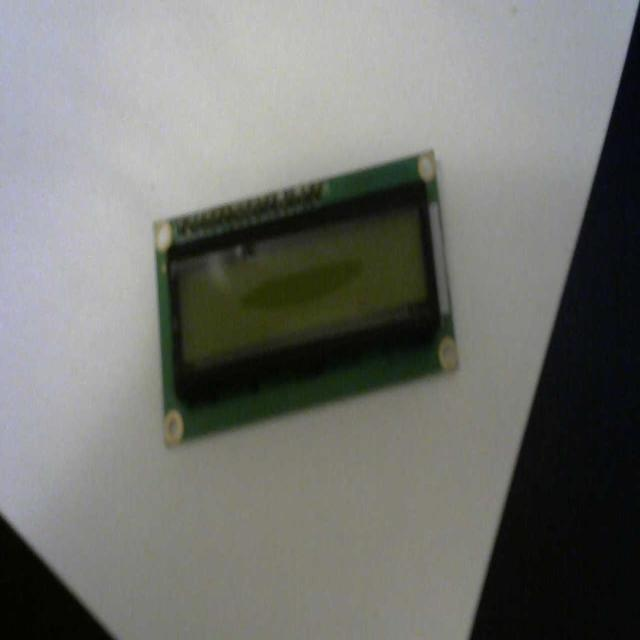lcd: (151, 147, 459, 447)
